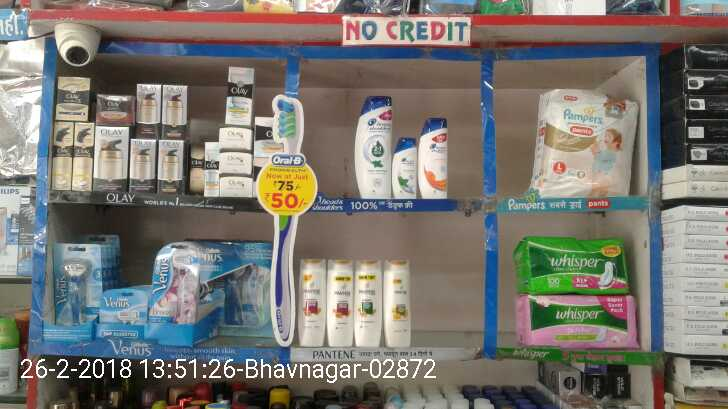venus: (149, 245, 220, 343), (53, 243, 104, 329), (231, 247, 270, 334), (105, 292, 147, 337)
